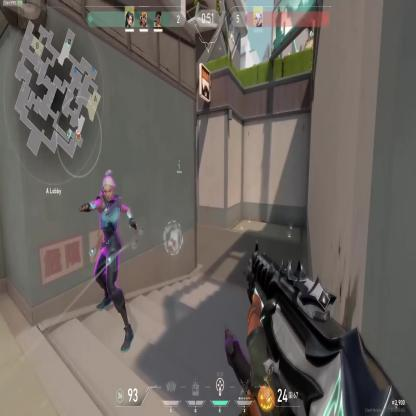enemy: (82, 170, 137, 349)
enemy_head: (102, 170, 116, 202)
